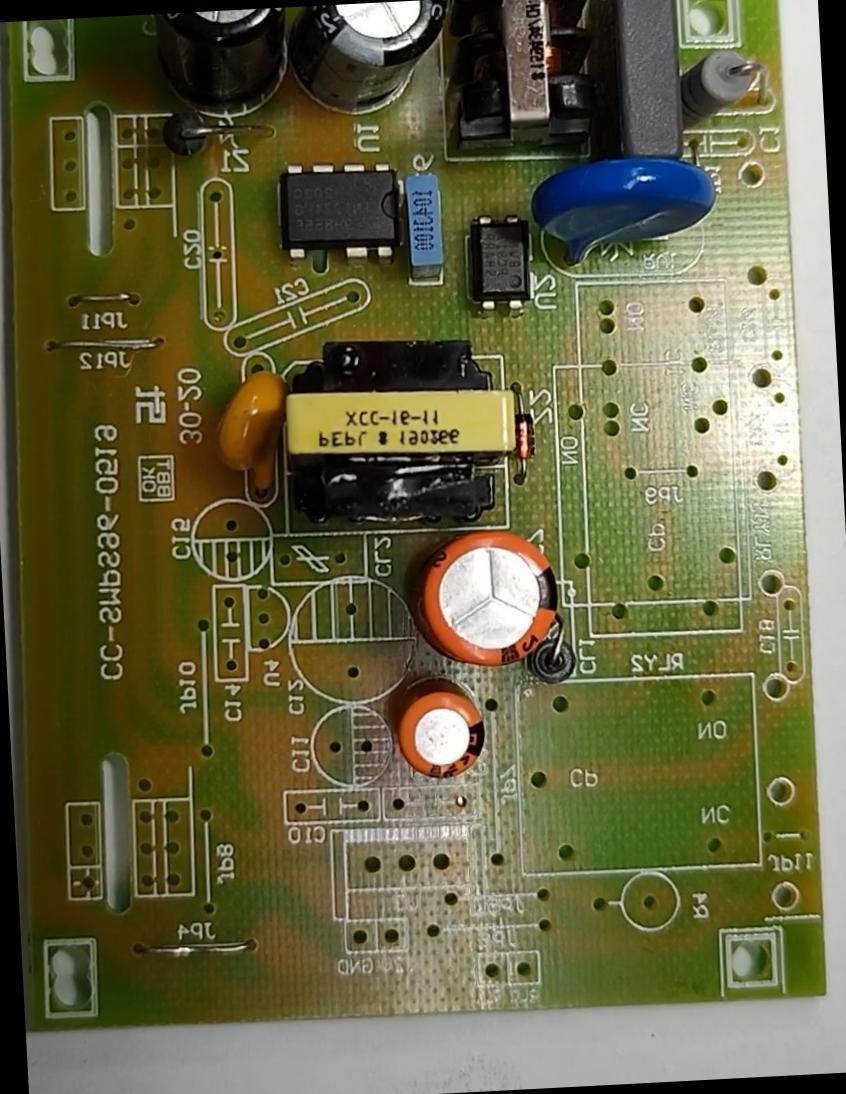Cap1: (410, 524, 570, 680)
Cap2: (393, 682, 491, 782)
Cap3: (289, 0, 454, 124)
Cap4: (146, 7, 297, 110)
MOSFET: (272, 150, 406, 274)
Mov: (530, 146, 726, 273)
Resistor: (675, 34, 766, 133)
Transformer: (273, 321, 523, 539), (444, 0, 612, 158)
